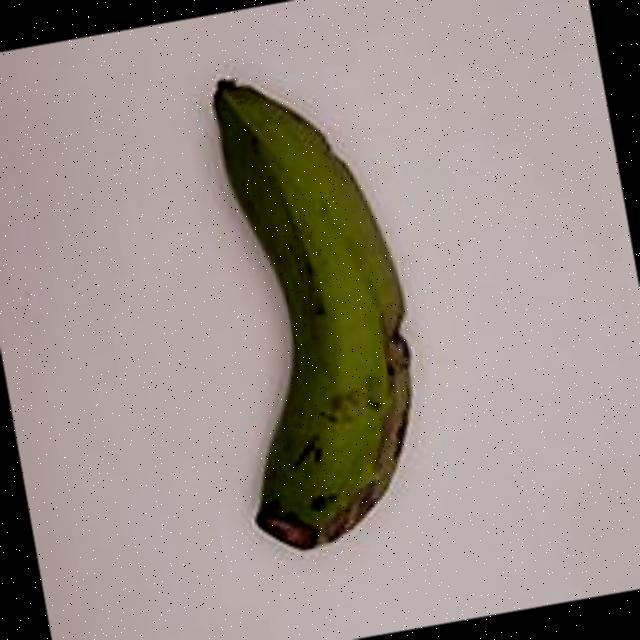Raw: (108, 15, 482, 588)
